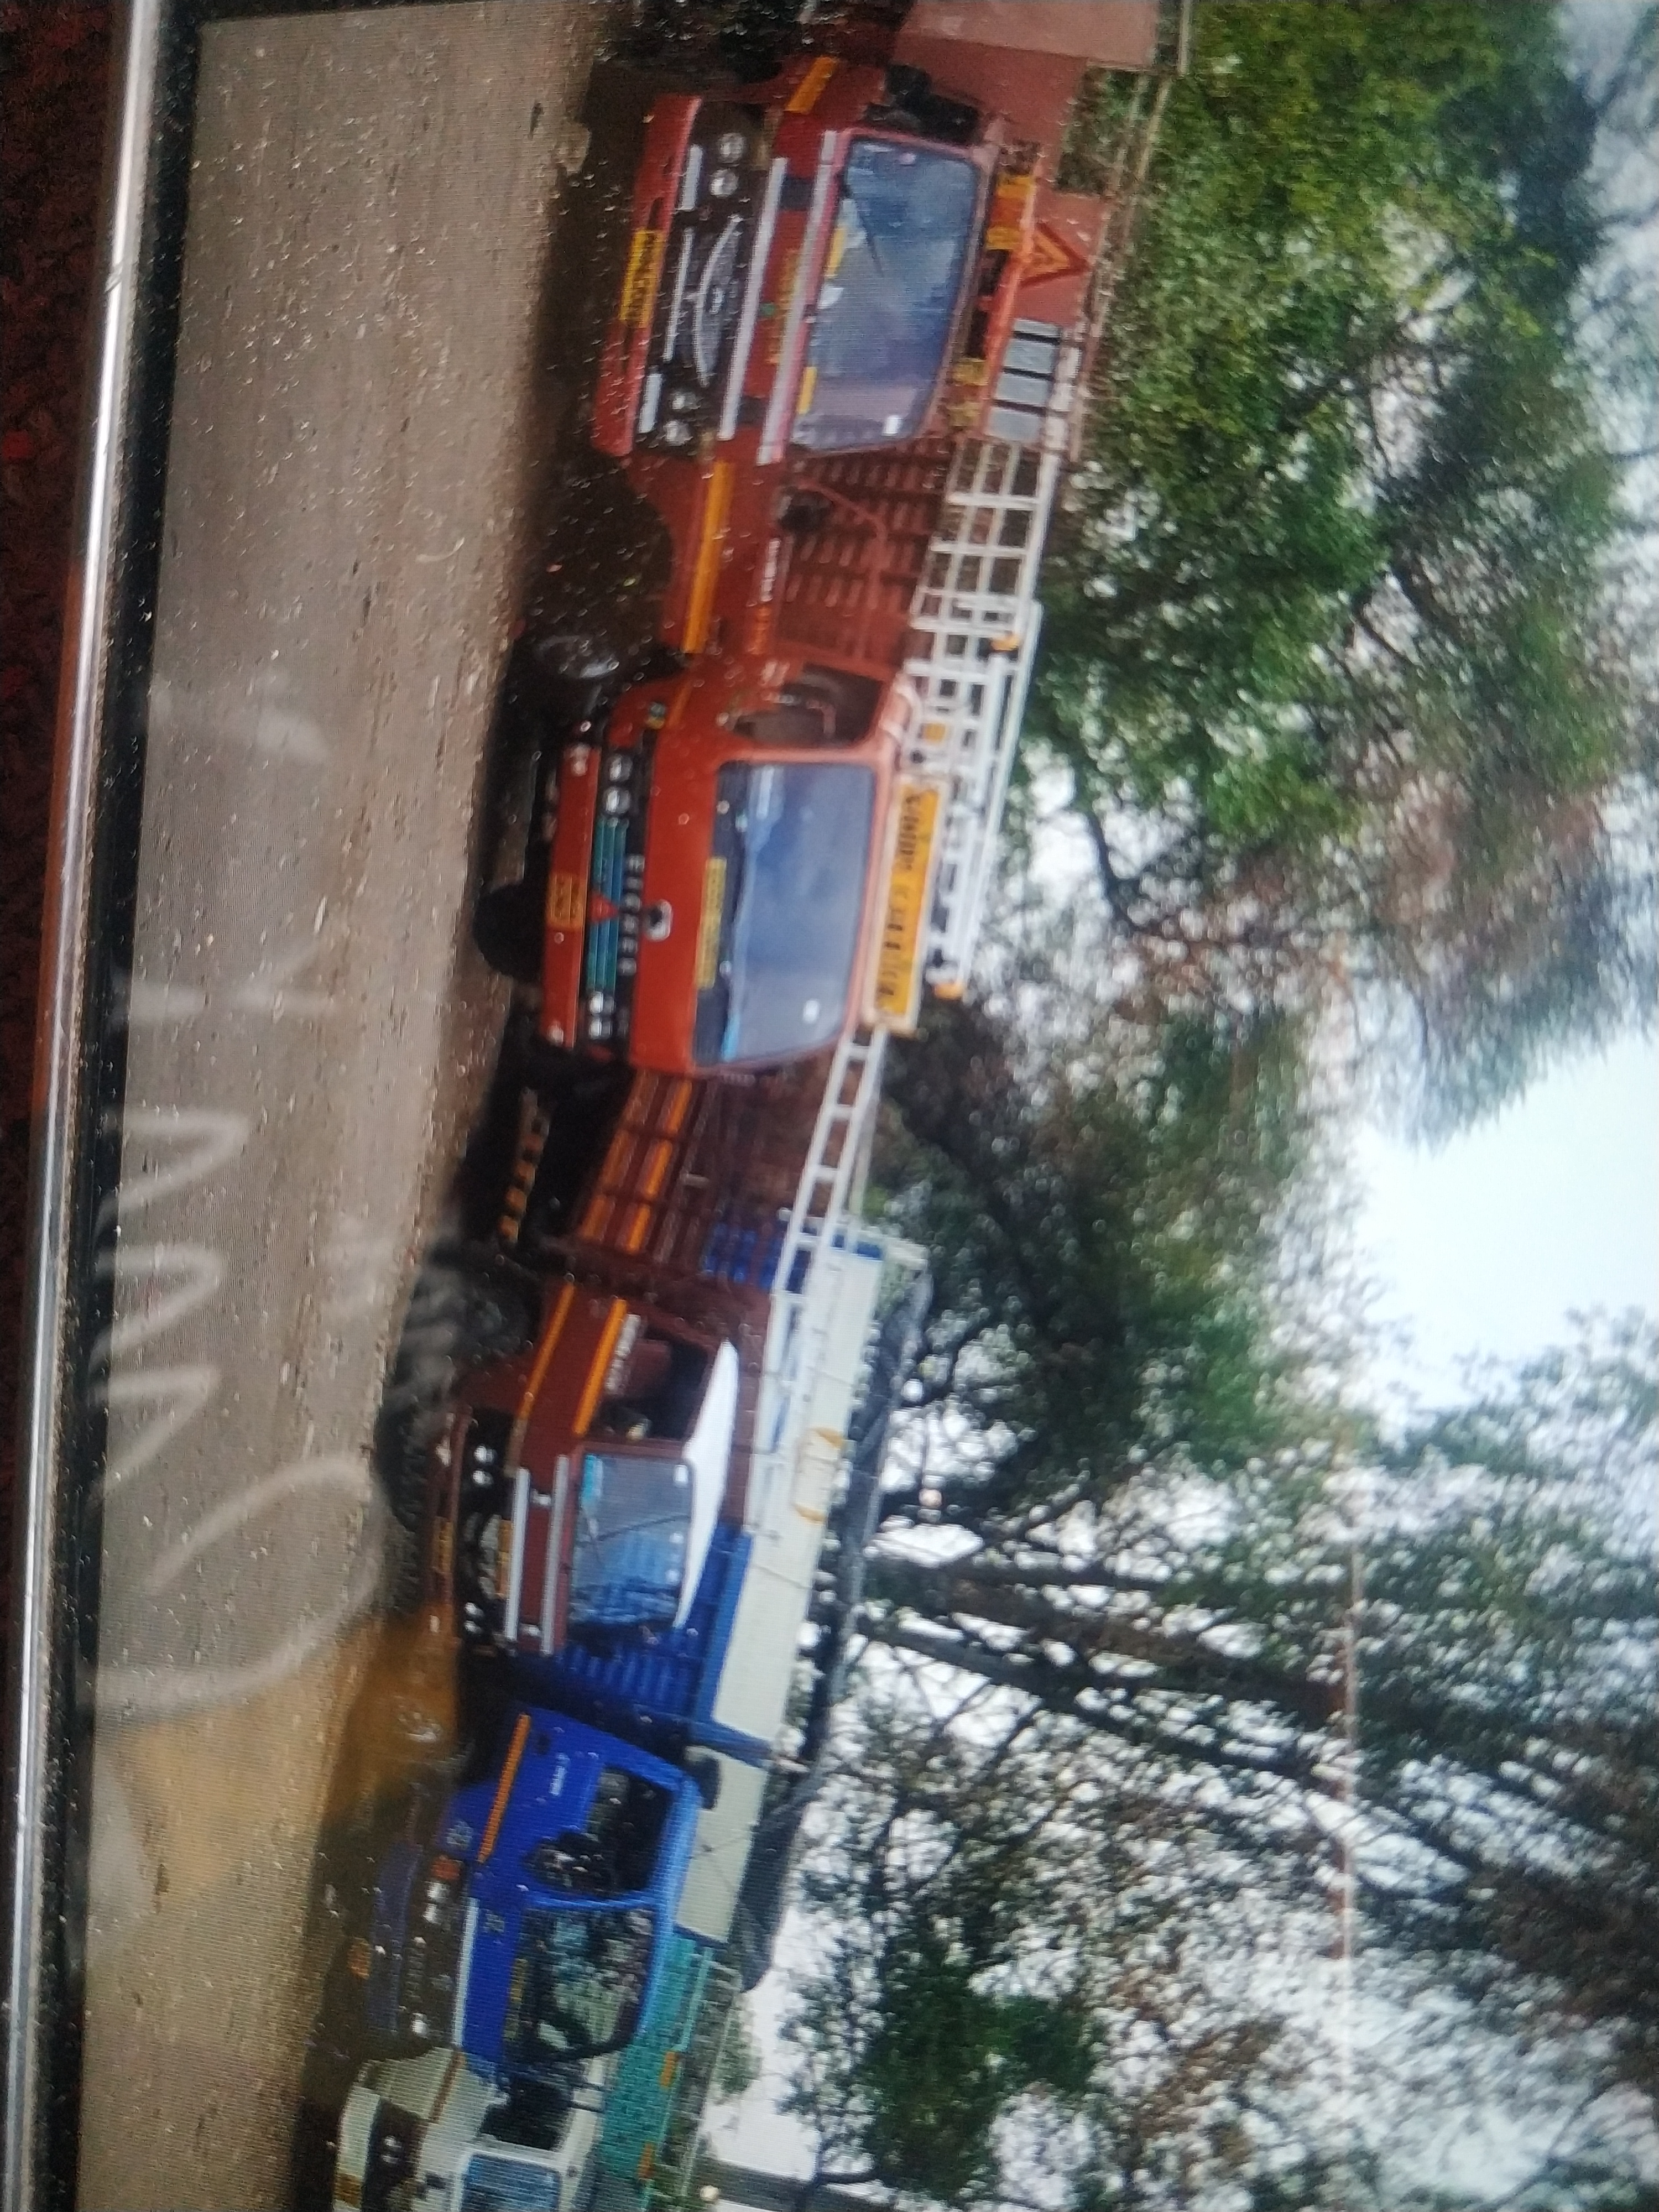truck: (315, 1181, 950, 2120), (472, 314, 1112, 1082), (376, 1022, 896, 1670), (532, 0, 1211, 477)
